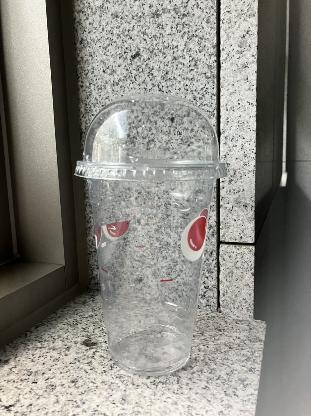Plastic Cup: (62, 91, 240, 375), (70, 98, 242, 183)
